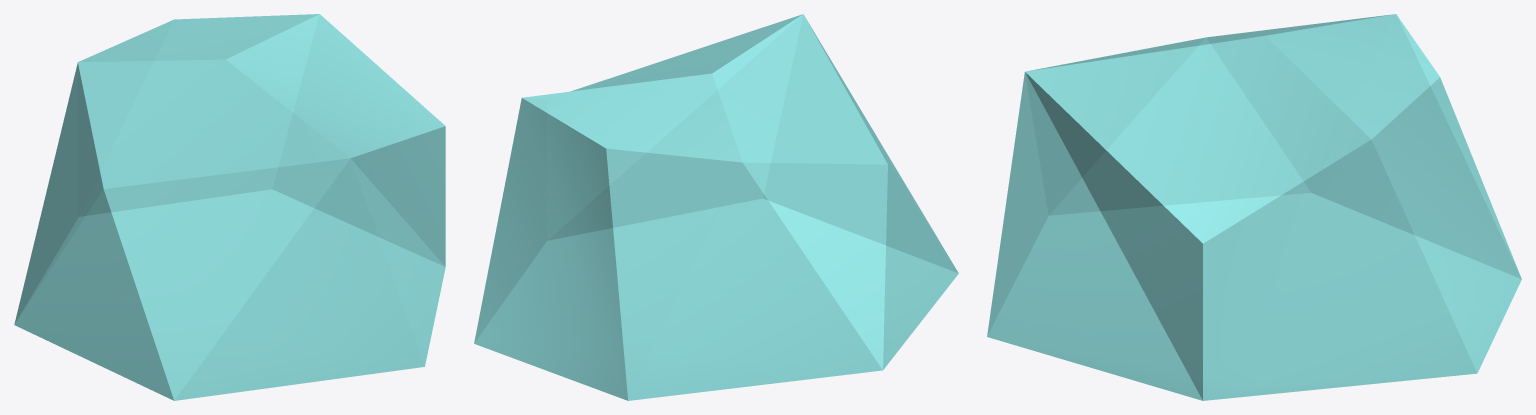
The model's file is Stone_Ice_Large_01.fbx.
3 views of the same model, side by side, from view 1: azimuth 30°, elevation 25°; view 2: azimuth 150°, elevation 25°; view 3: azimuth 270°, elevation 25° (orthographic). The views are drawn at different scales.
Parts seen in each view (by area): view 1: Model; view 2: Model; view 3: Model.
Boxes of the visible parts, x1,y1,x2,y2 form: Model: [14, 14, 445, 400]; Model: [474, 14, 958, 400]; Model: [987, 14, 1521, 400].
Size of the model in its own units: 308 by 225 by 334.
